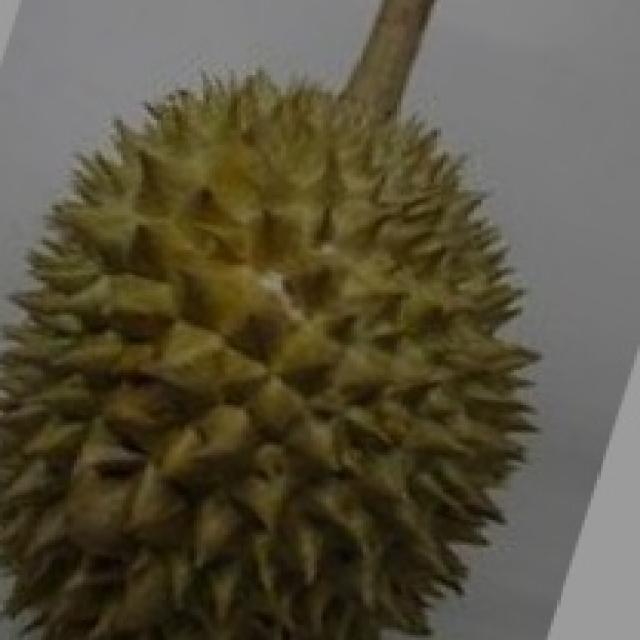fruit: (231, 245, 615, 637), (0, 255, 363, 640)
